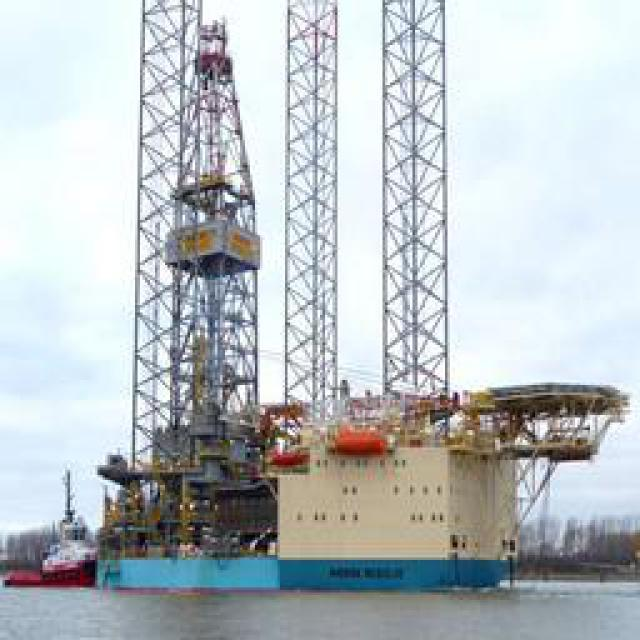Ship: (41, 383, 634, 601)
